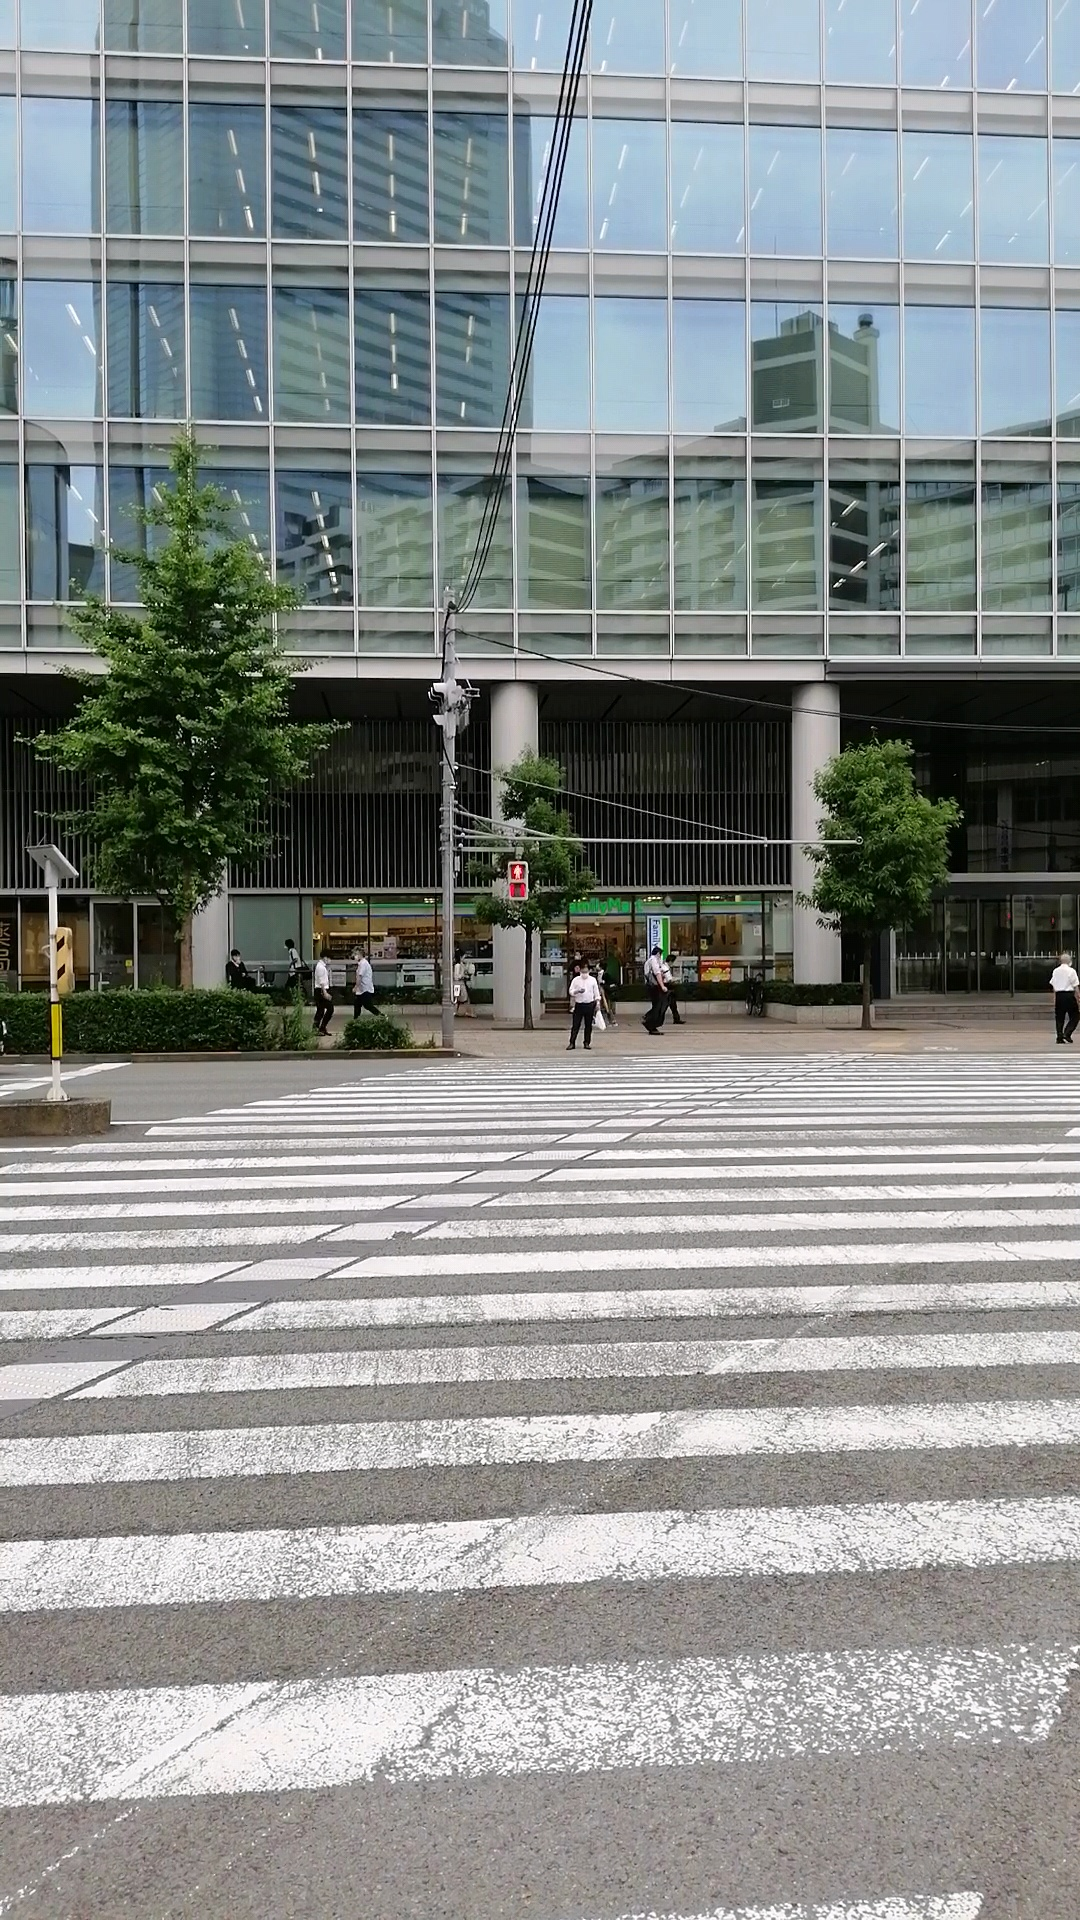red: (506, 860, 530, 903)
